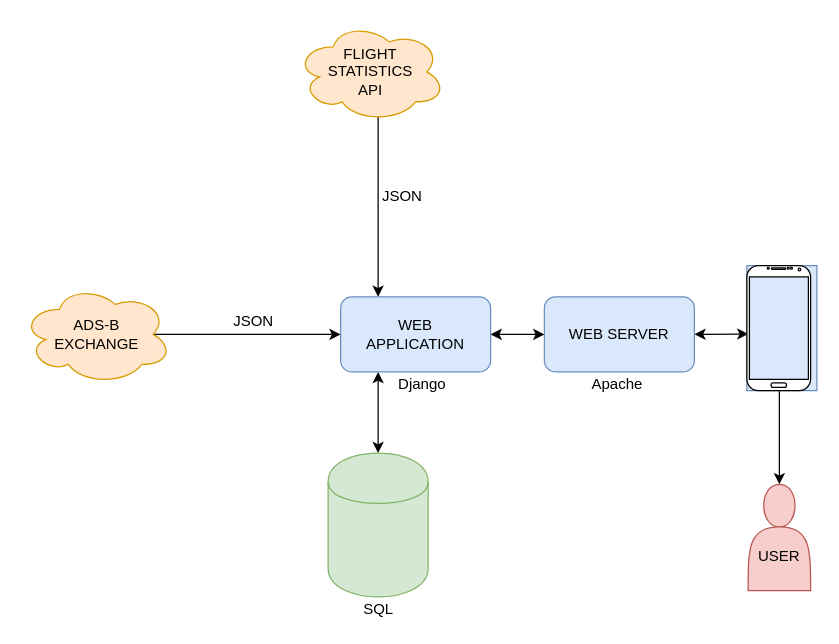
This 839x644 diagram has some shape labels left out. The centre of each missing label's shape, as x and y in pixels:
"DATABASE" goes at (377,524).
"MOBILE CLIENT" goes at (778,327).
